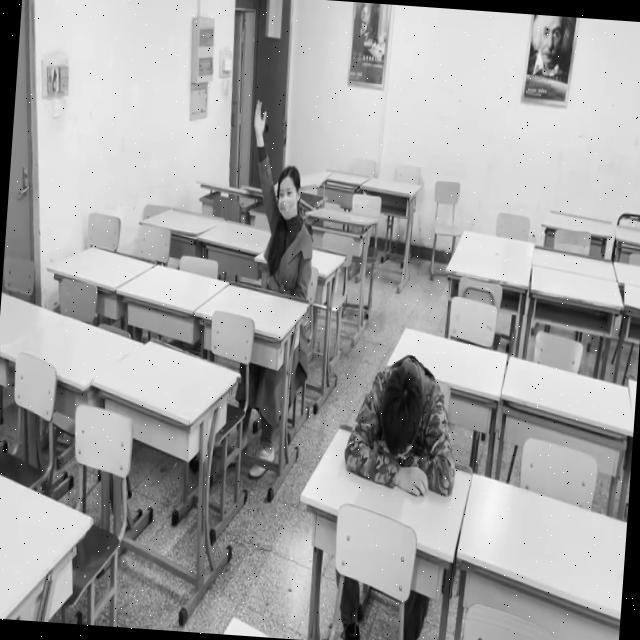sleep: (342, 355, 463, 496)
study: (241, 99, 322, 295)
